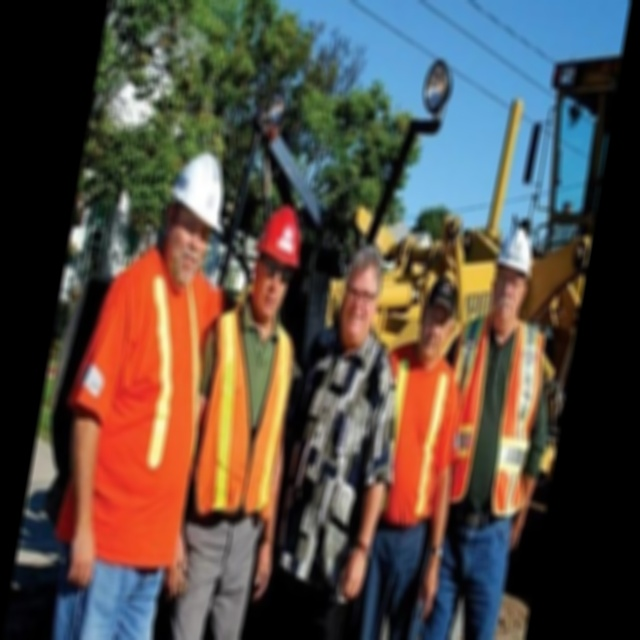Con_Casco: (158, 148, 234, 289), (247, 201, 308, 312)
Con_Chaleco: (187, 310, 306, 529), (437, 312, 549, 521)
Sin_Casco_Mascarrilla: (336, 244, 387, 347), (413, 272, 464, 366)
